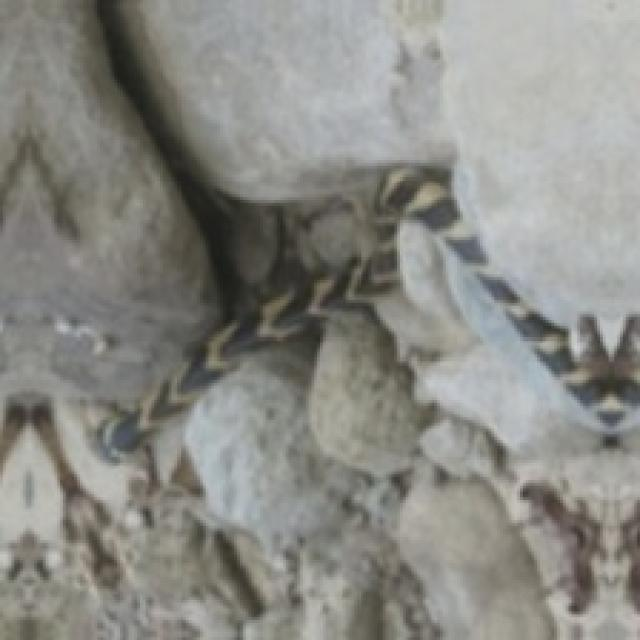king cobra: (309, 169, 637, 474)
